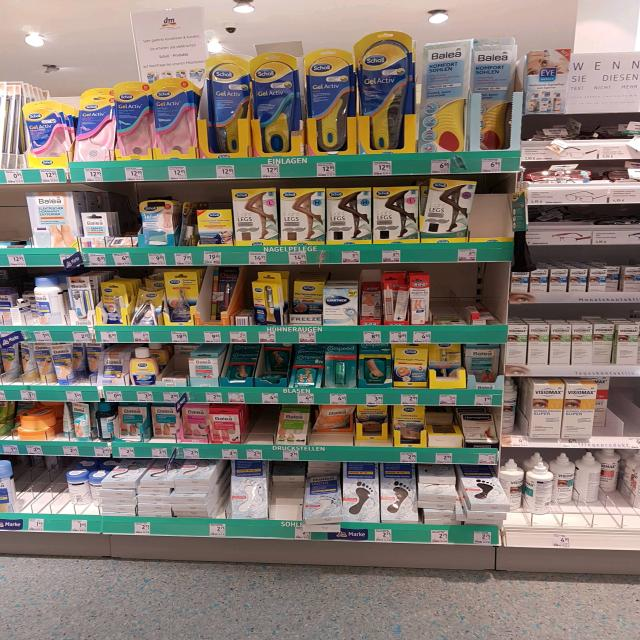void: (476, 176, 511, 262), (23, 468, 61, 530), (433, 266, 461, 341), (613, 378, 640, 448), (244, 408, 272, 459)
